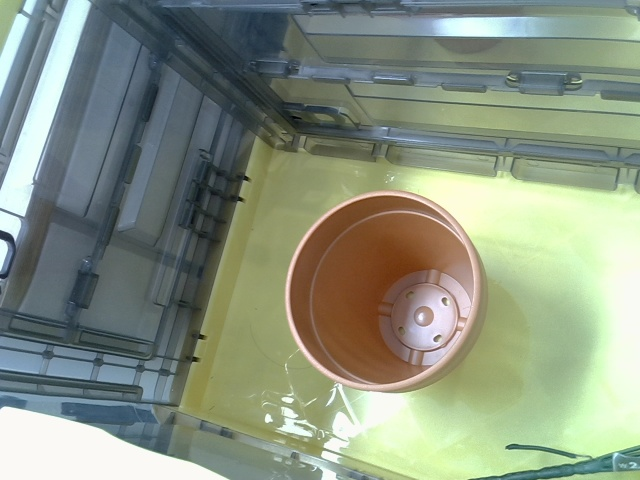화분: (284, 190, 488, 393)
